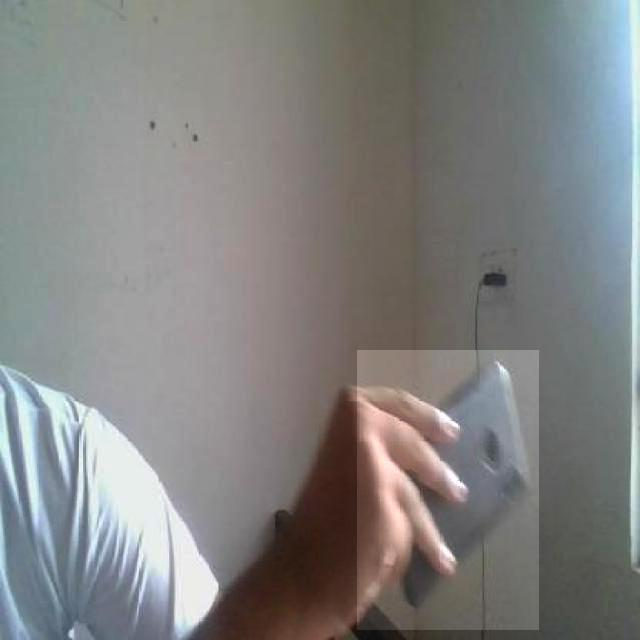mobile: (356, 350, 538, 630)
